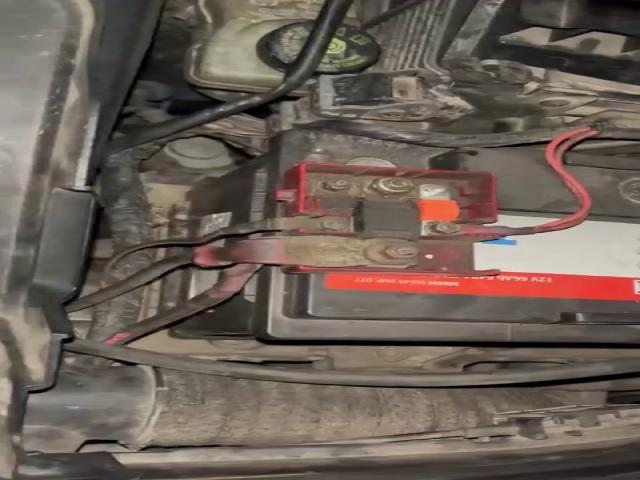accumulator: (157, 127, 635, 346)
